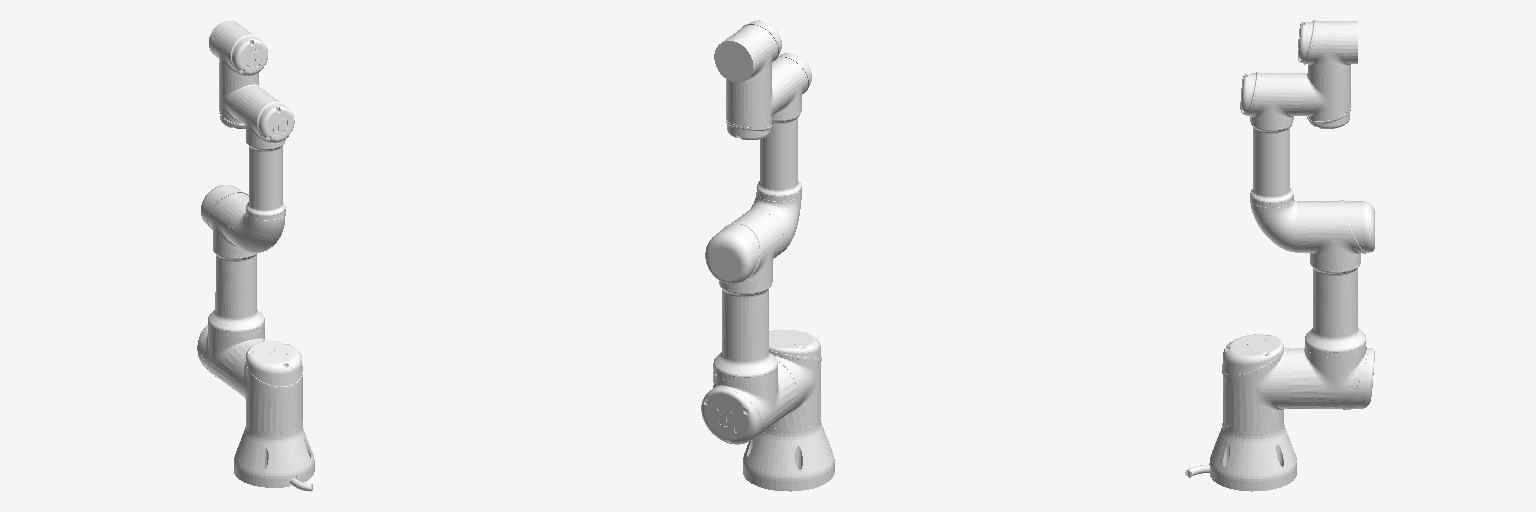
URDF robot description (ur3):
<robot
  name="ur3">
  <link
    name="base_link">
    <inertial>
      <origin
        xyz="3.9271E-05 0.04622 0.00080839"
        rpy="0 0 0" />
      <mass
        value="0.61579" />
      <inertia
        ixx="0.00079865"
        ixy="9.7917E-07"
        ixz="-1.4612E-06"
        iyy="0.001032"
        iyz="1.9027E-05"
        izz="0.00078297" />
    </inertial>
    <visual>
      <origin
        xyz="0 0 0"
        rpy="0 0 0" />
      <geometry>
        <mesh
          filename="package://ur3/meshes/base_link.STL" />
      </geometry>
      <material
        name="">
        <color
          rgba="1 1 1 1" />
      </material>
    </visual>
    <collision>
      <origin
        xyz="0 0 0"
        rpy="0 0 0" />
      <geometry>
        <mesh
          filename="package://ur3/meshes/base_link.STL" />
      </geometry>
    </collision>
  </link>
  <link
    name="link1">
    <inertial>
      <origin
        xyz="-1.0714E-05 0.055942 0.0073314"
        rpy="0 0 0" />
      <mass
        value="0.75586" />
      <inertia
        ixx="0.0012076"
        ixy="1.5182E-07"
        ixz="1.1041E-07"
        iyy="0.00091335"
        iyz="-0.00010158"
        izz="0.0011222" />
    </inertial>
    <visual>
      <origin
        xyz="0 0 0"
        rpy="0 0 0" />
      <geometry>
        <mesh
          filename="package://ur3/meshes/link1.STL" />
      </geometry>
      <material
        name="">
        <color
          rgba="1 1 1 1" />
      </material>
    </visual>
    <collision>
      <origin
        xyz="0 0 0"
        rpy="0 0 0" />
      <geometry>
        <mesh
          filename="package://ur3/meshes/link1.STL" />
      </geometry>
    </collision>
  </link>
  <joint
    name="joint1"
    type="revolute">
    <origin
      xyz="0 0 0.0844"
      rpy="1.5708 5.6655E-16 -3.1416" />
    <parent
      link="base_link" />
    <child
      link="link1" />
    <axis
      xyz="0 1 0" />
    <limit
      lower="-3.14"
      upper="3.14"
      effort="100"
      velocity="1" />
  </joint>
  <link
    name="link2">
    <inertial>
      <origin
        xyz="-4.188E-06 0.064249 0.1057"
        rpy="0 0 0" />
      <mass
        value="1.8019" />
      <inertia
        ixx="0.01936"
        ixy="8.8945E-08"
        ixz="-7.4473E-07"
        iyy="0.018785"
        iyz="-0.0013523"
        izz="0.0021134" />
    </inertial>
    <visual>
      <origin
        xyz="0 0 0"
        rpy="0 0 0" />
      <geometry>
        <mesh
          filename="package://ur3/meshes/link2.STL" />
      </geometry>
      <material
        name="">
        <color
          rgba="1 1 1 1" />
      </material>
    </visual>
    <collision>
      <origin
        xyz="0 0 0"
        rpy="0 0 0" />
      <geometry>
        <mesh
          filename="package://ur3/meshes/link2.STL" />
      </geometry>
    </collision>
  </link>
  <joint
    name="joint2"
    type="revolute">
    <origin
      xyz="0 0.0675 0.05235"
      rpy="1.5708 0 -3.1416" />
    <parent
      link="link1" />
    <child
      link="link2" />
    <axis
      xyz="0 -1 0" />
    <limit
      lower="-3.14"
      upper="3.14"
      effort="100"
      velocity="1" />
  </joint>
  <link
    name="link3">
    <inertial>
      <origin
        xyz="-0.0051445 -0.1112 7.0153E-08"
        rpy="0 0 0" />
      <mass
        value="0.96225" />
      <inertia
        ixx="0.0071078"
        ixy="0.00058643"
        ixz="8.7729E-10"
        iyy="0.00067153"
        iyz="5.7985E-09"
        izz="0.0072945" />
    </inertial>
    <visual>
      <origin
        xyz="0 0 0"
        rpy="0 0 0" />
      <geometry>
        <mesh
          filename="package://ur3/meshes/link3.STL" />
      </geometry>
      <material
        name="">
        <color
          rgba="1 1 1 1" />
      </material>
    </visual>
    <collision>
      <origin
        xyz="0 0 0"
        rpy="0 0 0" />
      <geometry>
        <mesh
          filename="package://ur3/meshes/link3.STL" />
      </geometry>
    </collision>
  </link>
  <joint
    name="joint3"
    type="revolute">
    <origin
      xyz="0 -0.02535 0.24365"
      rpy="-1.5708 7.4983E-33 -1.5708" />
    <parent
      link="link2" />
    <child
      link="link3" />
    <axis
      xyz="1 0 0" />
    <limit
      lower="-3.14"
      upper="3.14"
      effort="100"
      velocity="1" />
  </joint>
  <link
    name="link4">
    <inertial>
      <origin
        xyz="0.0059213 -0.00051763 2.6076E-07"
        rpy="0 0 0" />
      <mass
        value="0.32523" />
      <inertia
        ixx="0.00026155"
        ixy="1.7566E-06"
        ixz="-1.985E-09"
        iyy="0.00020549"
        iyz="-4.0128E-10"
        izz="0.00029955" />
    </inertial>
    <visual>
      <origin
        xyz="0 0 0"
        rpy="0 0 0" />
      <geometry>
        <mesh
          filename="package://ur3/meshes/link4.STL" />
      </geometry>
      <material
        name="">
        <color
          rgba="1 1 1 1" />
      </material>
    </visual>
    <collision>
      <origin
        xyz="0 0 0"
        rpy="0 0 0" />
      <geometry>
        <mesh
          filename="package://ur3/meshes/link4.STL" />
      </geometry>
    </collision>
  </link>
  <joint
    name="joint4"
    type="revolute">
    <origin
      xyz="-0.0834 -0.213 0"
      rpy="-3.1416 -4.9304E-32 -7.4983E-33" />
    <parent
      link="link3" />
    <child
      link="link4" />
    <axis
      xyz="1 0 0" />
    <limit
      lower="-3.14"
      upper="3.14"
      effort="100"
      velocity="1" />
  </joint>
  <link
    name="link5">
    <inertial>
      <origin
        xyz="0.0059213 0.00051762 -2.3715E-07"
        rpy="0 0 0" />
      <mass
        value="0.32523" />
      <inertia
        ixx="0.00026155"
        ixy="-1.7566E-06"
        ixz="1.9216E-09"
        iyy="0.00020549"
        iyz="-2.2402E-10"
        izz="0.00029955" />
    </inertial>
    <visual>
      <origin
        xyz="0 0 0"
        rpy="0 0 0" />
      <geometry>
        <mesh
          filename="package://ur3/meshes/link5.STL" />
      </geometry>
      <material
        name="">
        <color
          rgba="1 1 1 1" />
      </material>
    </visual>
    <collision>
      <origin
        xyz="0 0 0"
        rpy="0 0 0" />
      <geometry>
        <mesh
          filename="package://ur3/meshes/link5.STL" />
      </geometry>
    </collision>
  </link>
  <joint
    name="joint5"
    type="revolute">
    <origin
      xyz="0 0.0834 0"
      rpy="0 -3.8286E-16 -1.5708" />
    <parent
      link="link4" />
    <child
      link="link5" />
    <axis
      xyz="-1 0 0" />
    <limit
      lower="-3.14"
      upper="3.14"
      effort="100"
      velocity="1" />
  </joint>
  <link
    name="link6">
    <inertial>
      <origin
        xyz="-3.468E-11 0.00010331 -0.021073"
        rpy="0 0 0" />
      <mass
        value="0.11536" />
      <inertia
        ixx="4.3204E-05"
        ixy="5.7806E-13"
        ixz="-1.2E-12"
        iyy="4.3416E-05"
        iyz="1.0813E-07"
        izz="5.9067E-05" />
    </inertial>
    <visual>
      <origin
        xyz="0 0 0"
        rpy="0 0 0" />
      <geometry>
        <mesh
          filename="package://ur3/meshes/link6.STL" />
      </geometry>
      <material
        name="">
        <color
          rgba="1 1 1 1" />
      </material>
    </visual>
    <collision>
      <origin
        xyz="0 0 0"
        rpy="0 0 0" />
      <geometry>
        <mesh
          filename="package://ur3/meshes/link6.STL" />
      </geometry>
    </collision>
  </link>
  <joint
    name="joint6"
    type="revolute">
    <origin
      xyz="0 -0.0409 0"
      rpy="1.5708 -1.5708 0" />
    <parent
      link="link5" />
    <child
      link="link6" />
    <axis
      xyz="0 0 1" />
    <limit
      lower="-3.14"
      upper="3.14"
      effort="100"
      velocity="1" />
  </joint>
</robot>

--- Facts derived from the render (not from the file) ---
3 views of the same robot in one strip: view 1: azimuth 30°, elevation 25°; view 2: azimuth 150°, elevation 25°; view 3: azimuth 270°, elevation 25° (orthographic).
Robot: ur3 — 7 links, 6 joints (6 revolute); root link base_link; default pose: every joint at zero.
Visible links, largest first — view 1: link2, link3, link1, base_link, link5, link4; view 2: link2, link3, base_link, link1, link5, link4; view 3: link2, link3, link1, base_link, link5, link4.
Link boxes in pixels (<box>): link2: <box>197,185,264,390</box>; link3: <box>229,88,294,252</box>; link1: <box>233,341,302,433</box>; base_link: <box>234,422,314,491</box>; link5: <box>209,20,267,80</box>; link4: <box>219,73,261,128</box>; link2: <box>701,210,796,444</box>; link3: <box>747,53,811,254</box>; base_link: <box>743,418,834,491</box>; link1: <box>769,330,821,429</box>; link5: <box>714,20,781,86</box>; link4: <box>726,78,782,139</box>; link2: <box>1290,200,1374,409</box>; link3: <box>1240,72,1306,252</box>; link1: <box>1222,334,1289,432</box>; base_link: <box>1185,422,1296,491</box>; link5: <box>1298,20,1357,76</box>; link4: <box>1301,69,1350,128</box>.
Bounding box of the posed robot: 0.128 × 0.2765 × 0.725 m (x, y, z).
Meshes: 7 distinct files referenced, 7 mesh visuals loaded (7 binary STL).